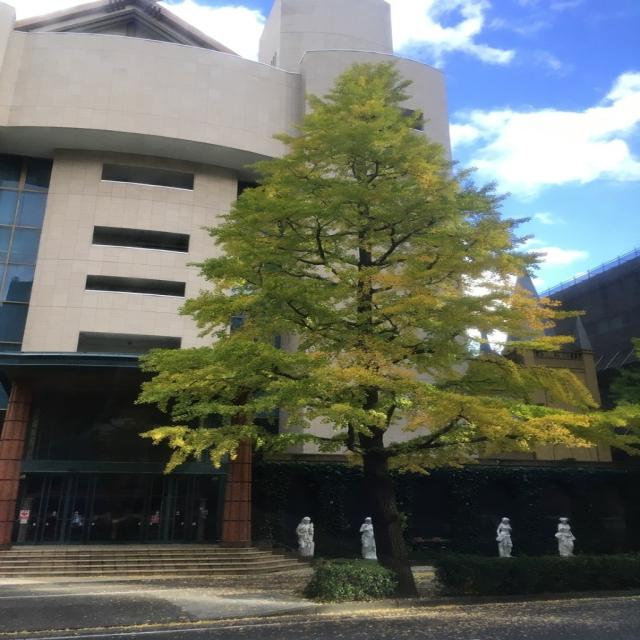ginkgo: (130, 55, 640, 602)
